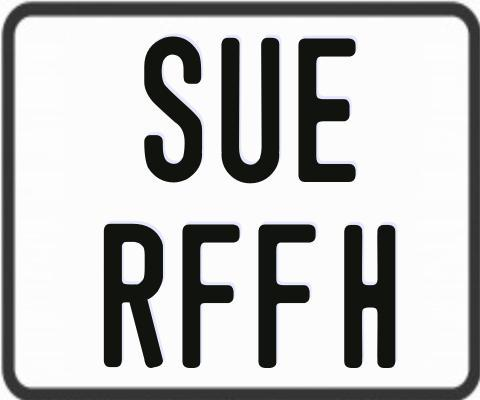E: (298, 37, 362, 185)
F: (257, 224, 315, 374), (179, 221, 237, 367)
H: (344, 223, 399, 368)
R: (102, 224, 167, 372)
S: (143, 36, 206, 183)
U: (221, 38, 282, 185)
